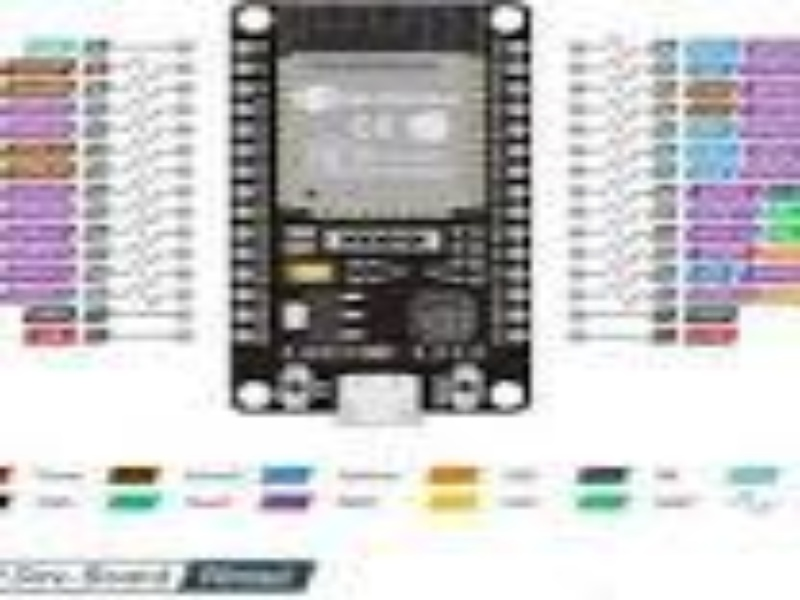esp32: (221, 9, 536, 415)
